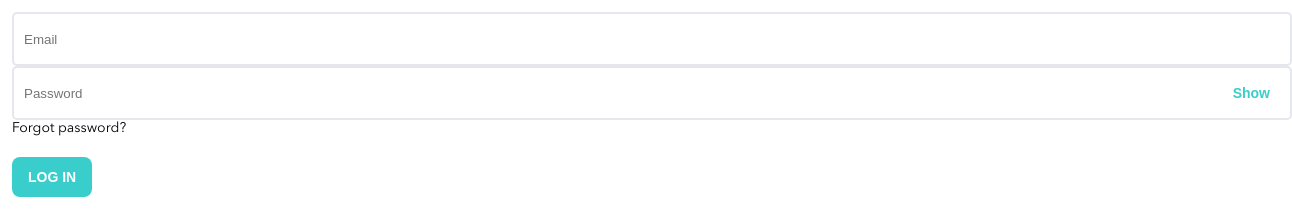
Test: LogInForm › shows error if password is less than 6 characters
Type "user@example.com" into the field with placeholder "Email". click: (652, 39)
box: [24,14,1280,64]
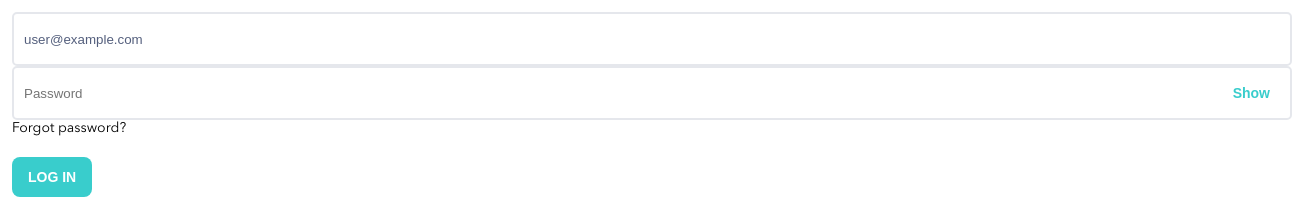
Type "123" into the password field with placeholder "Password". click: (623, 93)
box: [24,68,1223,118]
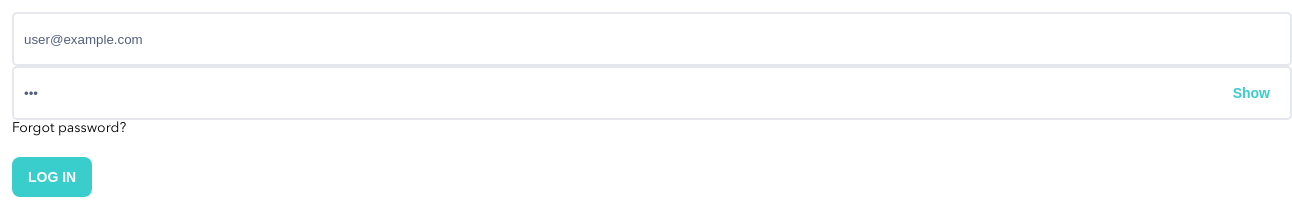
Click the button "Log In". click: (52, 177)
box: [12,157,92,197]
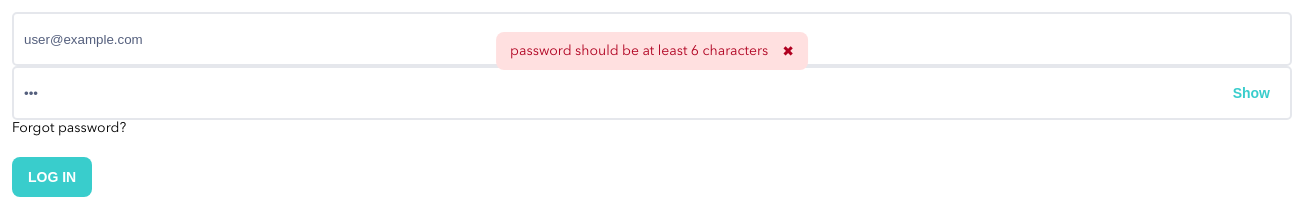
Check: the text "password should be at least 6 characters" is shown, box [510,42,768,60]
